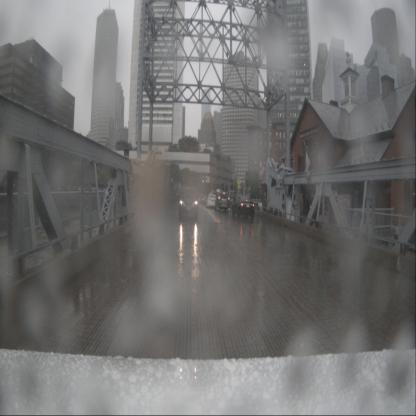human-pedestrian-adult: (309, 193, 315, 214), (304, 193, 309, 215)
vehicle-car: (178, 187, 199, 221), (232, 195, 254, 220), (214, 192, 230, 212), (205, 194, 217, 209), (202, 195, 208, 205)
